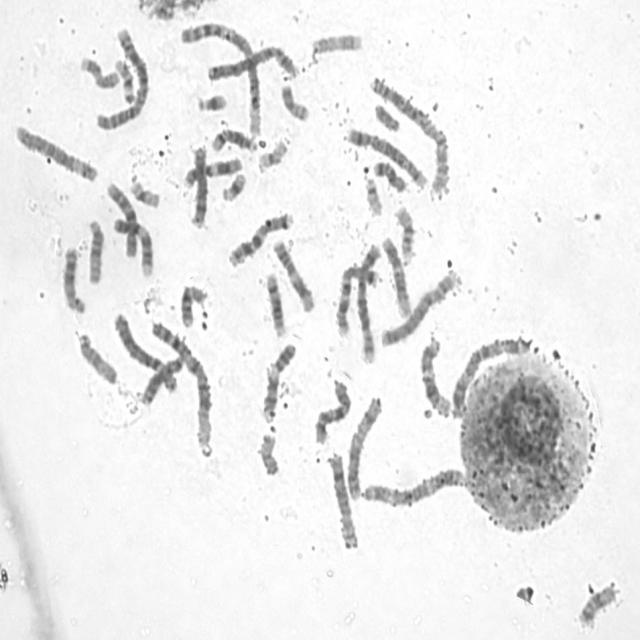A1: (176, 17, 264, 140), (147, 316, 214, 450)
A2: (368, 71, 452, 194), (91, 23, 152, 133)
A3: (447, 330, 530, 420), (358, 462, 468, 508)
B4: (377, 268, 458, 348), (202, 40, 300, 83)
B5: (344, 121, 430, 190), (352, 238, 383, 366)
C10: (103, 176, 140, 259), (314, 379, 354, 446)
C11: (269, 234, 317, 314), (180, 151, 244, 188)
C12: (416, 333, 454, 419), (378, 231, 413, 318)
C6: (110, 307, 180, 396), (11, 119, 100, 184)
C7: (224, 206, 296, 268), (331, 257, 383, 338)
C8: (324, 448, 360, 551), (186, 140, 210, 230)
C9: (258, 337, 298, 424), (110, 211, 156, 279)
D13: (135, 348, 186, 407), (58, 240, 88, 315)
D14: (262, 268, 288, 338), (208, 123, 258, 154)
D15: (74, 327, 120, 386), (83, 213, 105, 287)
E16: (390, 200, 418, 265), (177, 280, 210, 329)
E17: (76, 50, 122, 91), (307, 27, 364, 57)
E18: (574, 578, 618, 629), (370, 155, 410, 193)
F19: (254, 135, 289, 172), (126, 174, 162, 209)
F20: (276, 79, 312, 123), (254, 427, 280, 478)
G21: (218, 167, 247, 204), (193, 88, 229, 114)
G22: (360, 170, 384, 217), (114, 58, 135, 105)
X: (342, 390, 384, 502)
Y: (371, 98, 402, 133)
